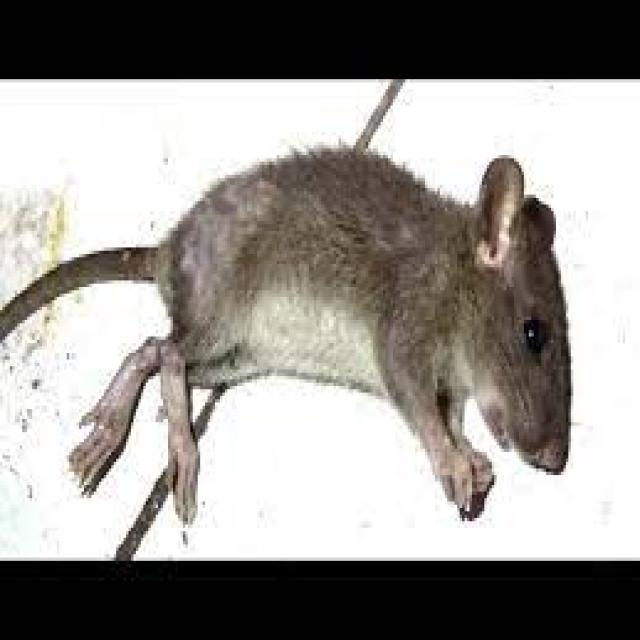rat: (83, 144, 581, 536)
